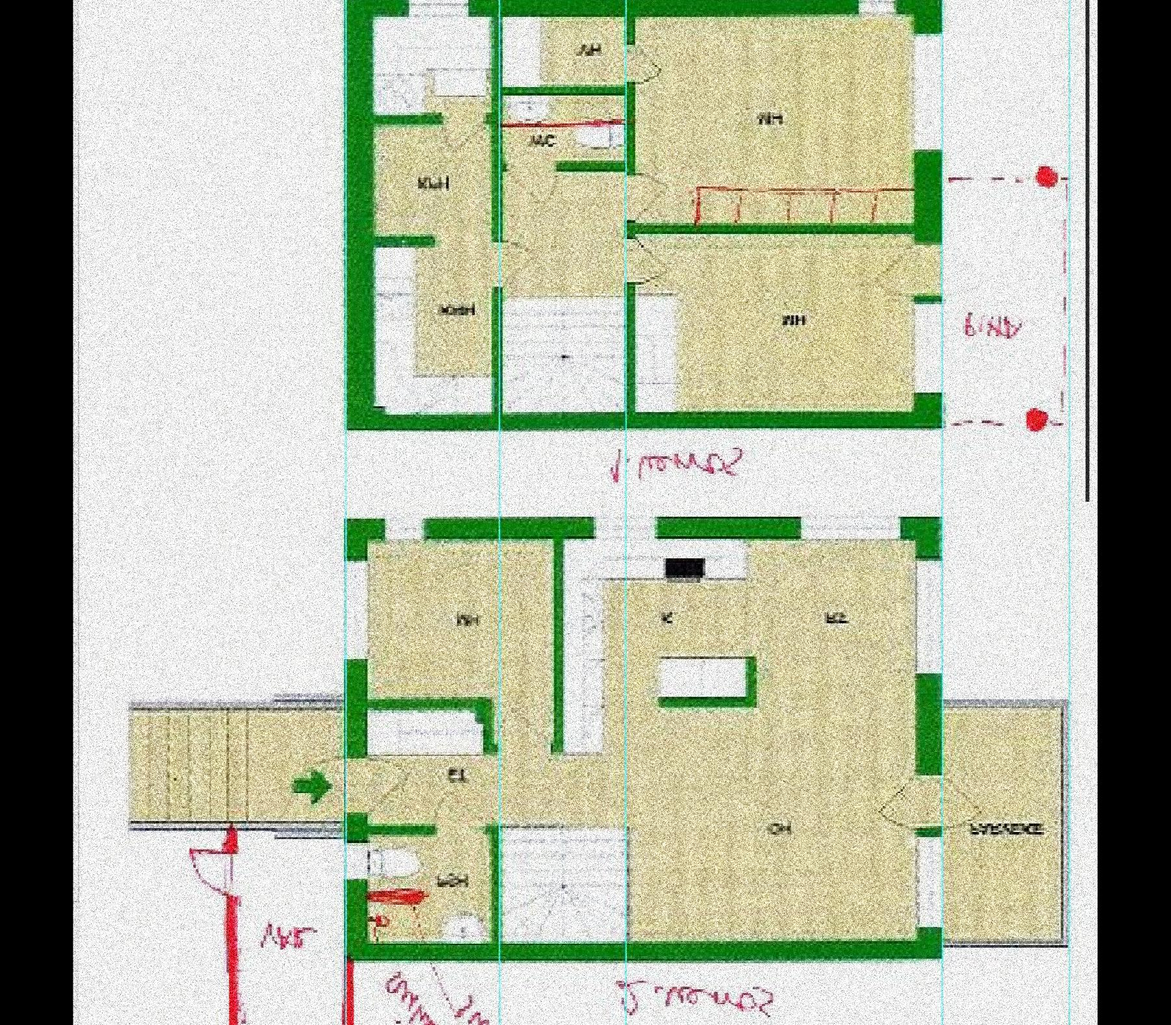door: (185, 845, 243, 903), (432, 790, 490, 841), (362, 754, 407, 819), (505, 162, 564, 210), (877, 777, 922, 837), (622, 235, 665, 292), (488, 242, 537, 291), (945, 771, 982, 834), (622, 169, 664, 221), (878, 245, 915, 301), (624, 46, 662, 91), (443, 123, 483, 156)
window: (911, 559, 945, 673), (913, 33, 943, 151), (802, 512, 900, 544), (343, 556, 370, 657), (915, 304, 941, 392), (916, 838, 942, 921), (596, 515, 659, 536), (381, 517, 428, 543), (413, 0, 463, 18), (855, 0, 899, 14)
zone: (367, 541, 911, 942), (631, 13, 913, 221), (625, 237, 904, 409), (501, 95, 630, 423), (376, 121, 492, 420), (943, 706, 1065, 938), (137, 700, 347, 830), (243, 837, 343, 1025), (364, 836, 487, 946), (378, 16, 492, 122), (501, 17, 627, 84)
